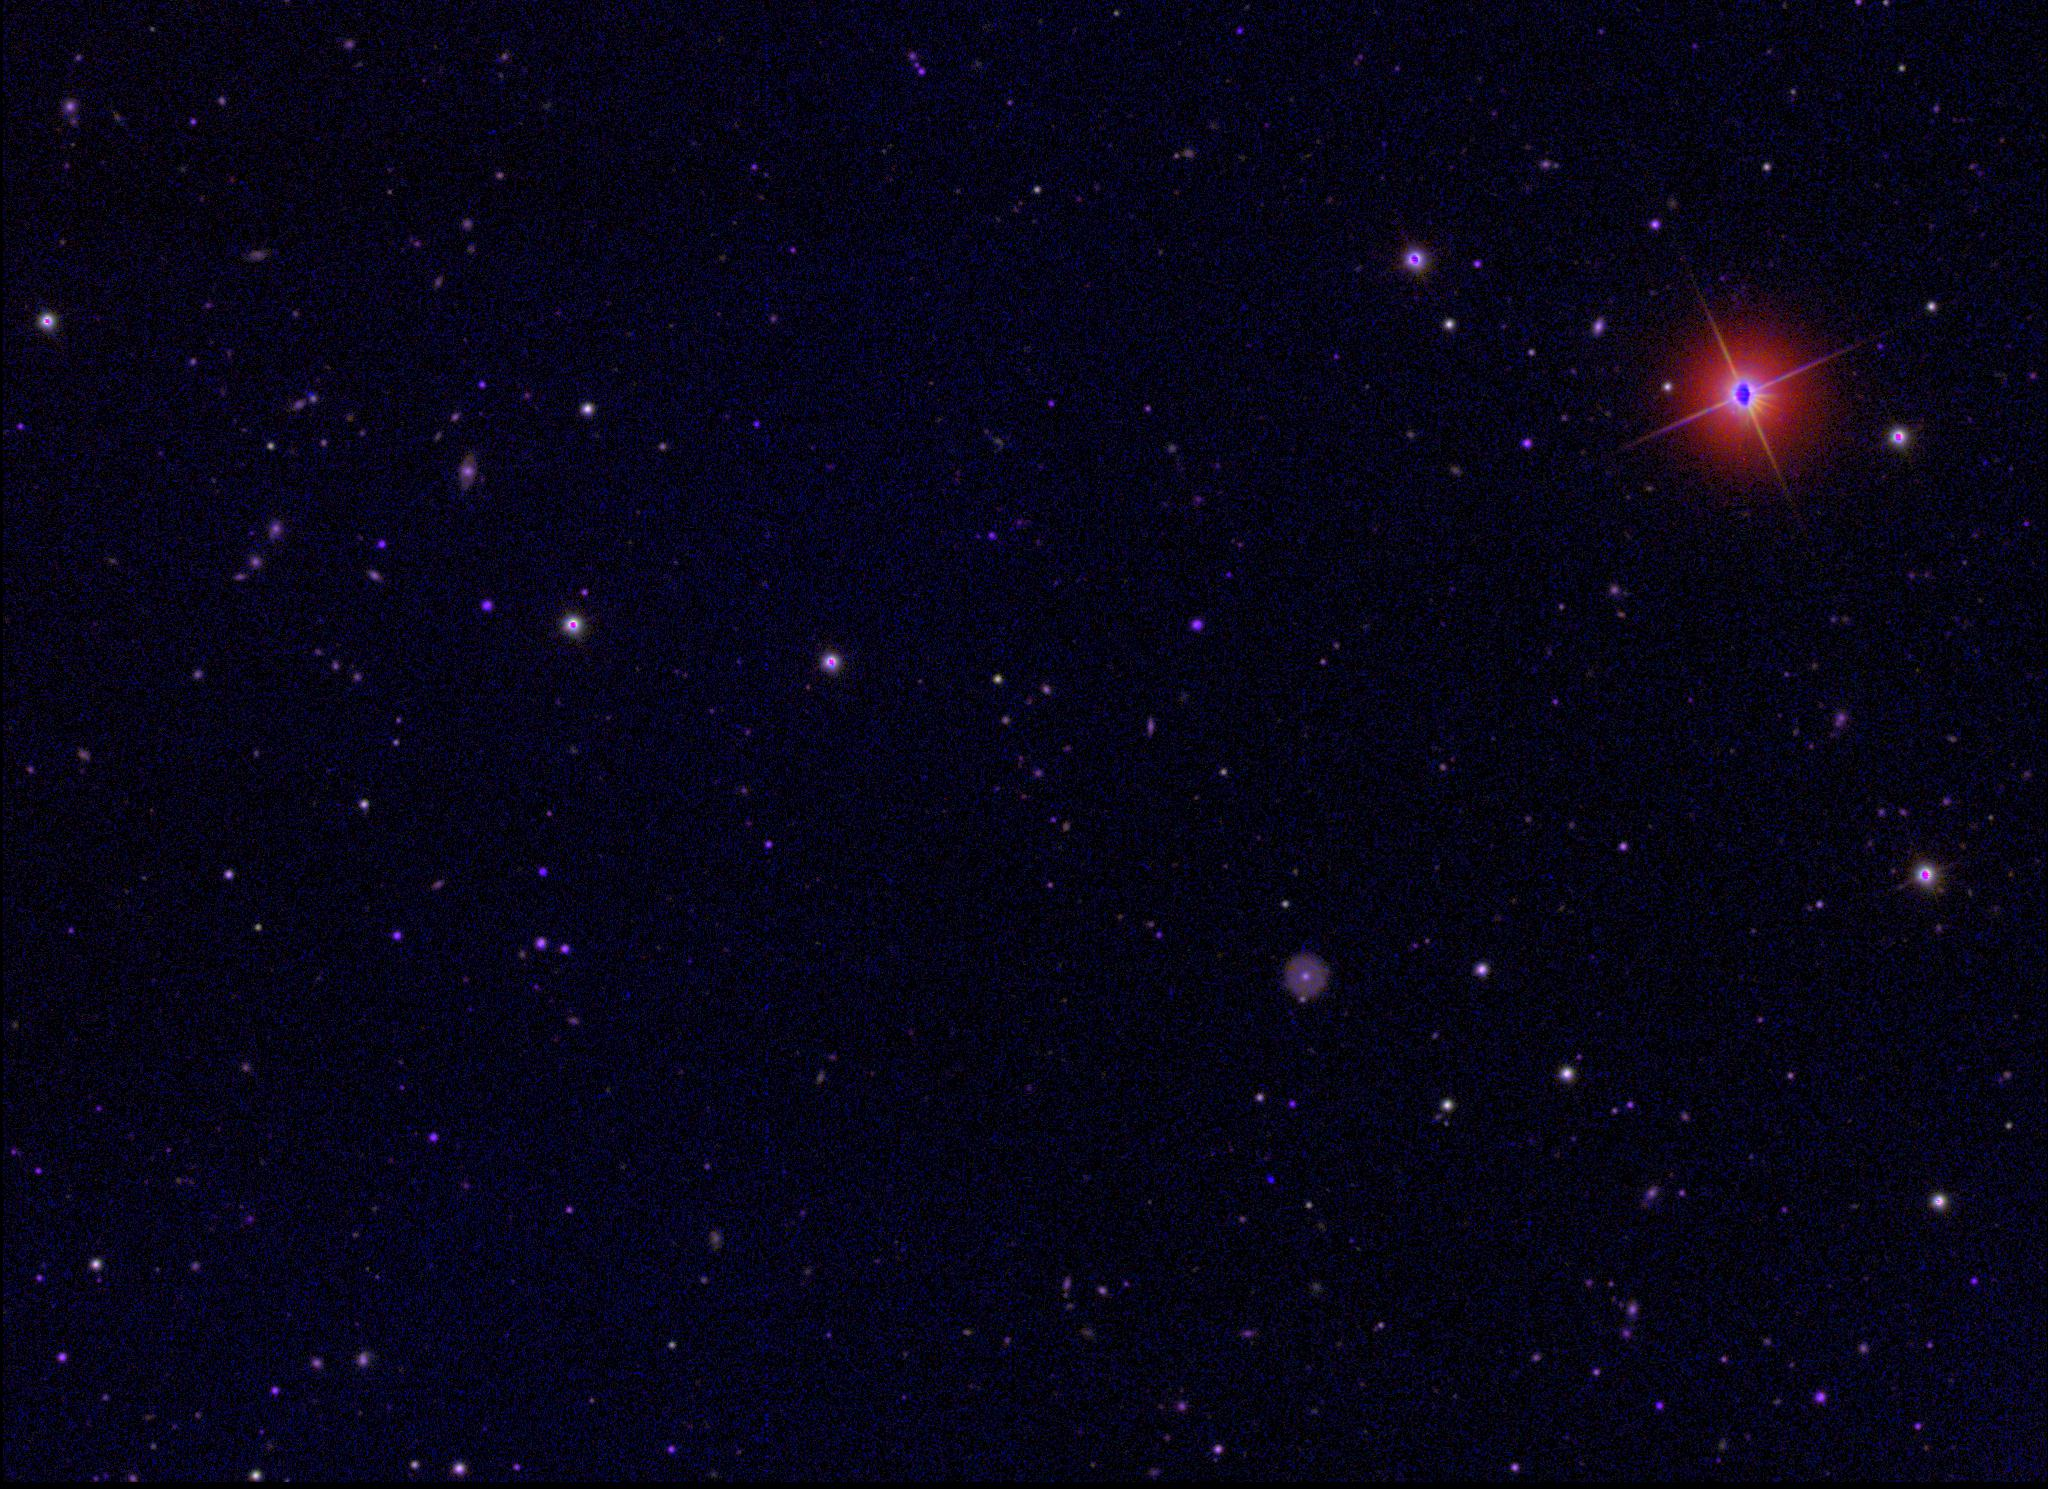L: (1264, 1172, 1278, 1187)
